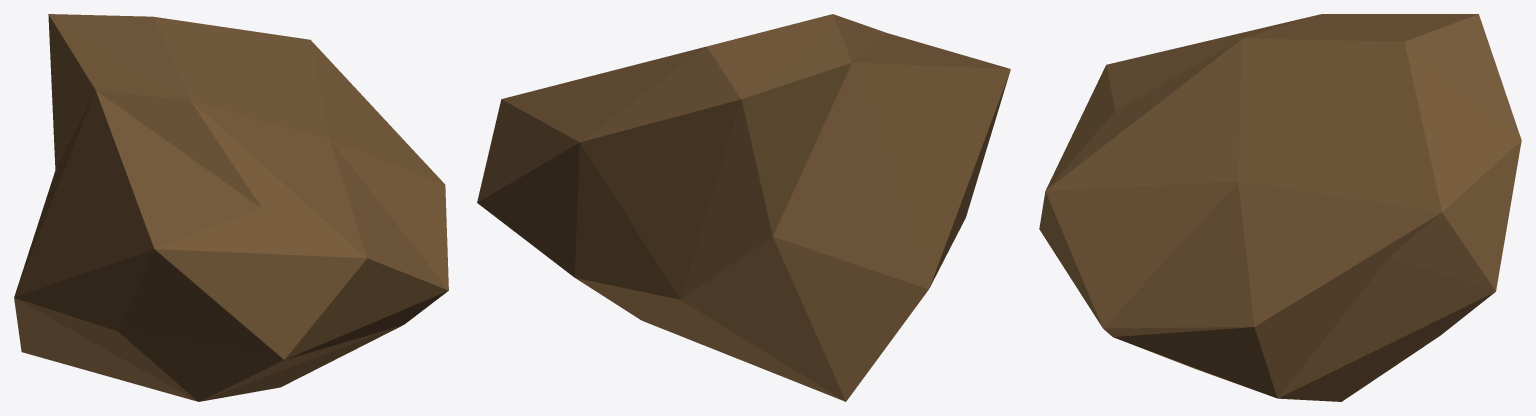
File: rock01.fbx
3 renders of one model, left to right at view 1: azimuth 30°, elevation 25°; view 2: azimuth 150°, elevation 25°; view 3: azimuth 270°, elevation 25°, orthographic. The views are drawn at different scales.
Parts seen in each view (by area): view 1: rock1; view 2: rock1; view 3: rock1.
Boxes of the visible parts, box(x1,y1,x2,y2) form: rock1: box(14, 14, 448, 401); rock1: box(477, 14, 1010, 401); rock1: box(1039, 14, 1521, 401).
Bounding box in the file's own units: 154 × 113 × 157.
